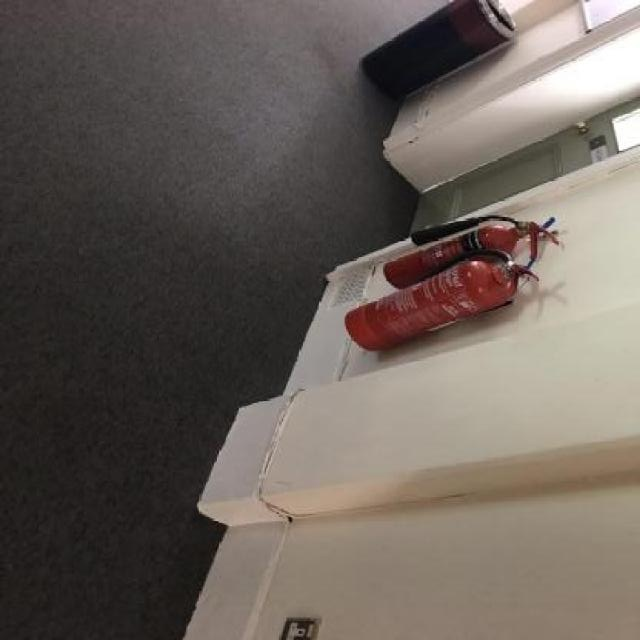fire extinguisher: (344, 248, 539, 352), (381, 215, 559, 290)
